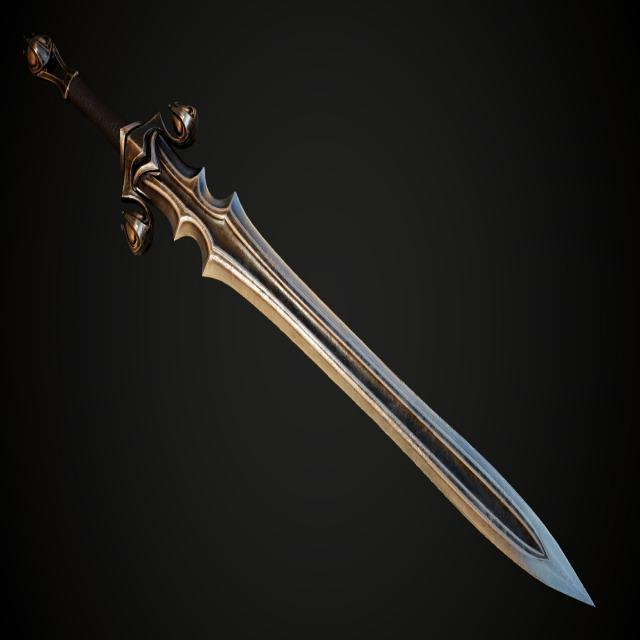sword: (21, 27, 598, 619)
